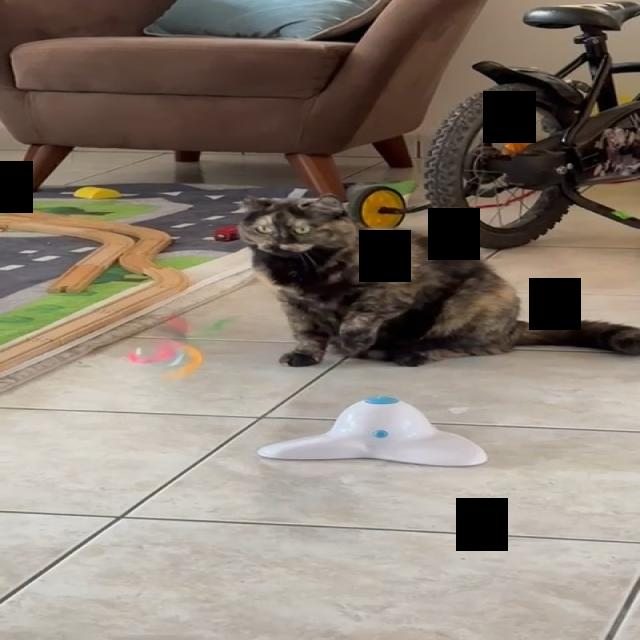authorized: (236, 194, 639, 368)
